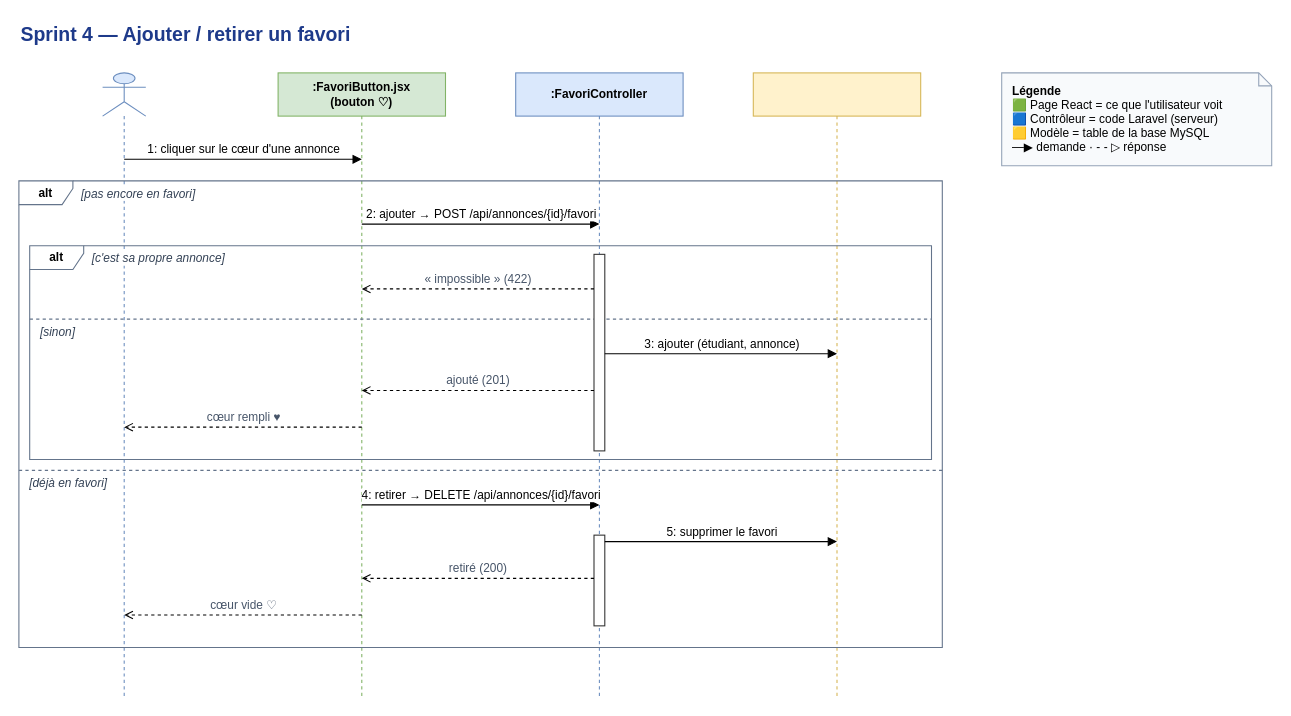
The diagram is 1291 pixels wide and 716 high, and some of its shapes have lost their labels. The shapes that lost their labels are listed below. From the top down, each one's box as (x1, y1, x2, y2) in pixels, then its label:
(102, 72, 146, 697): Étudiant
(752, 72, 921, 697): :Favori
